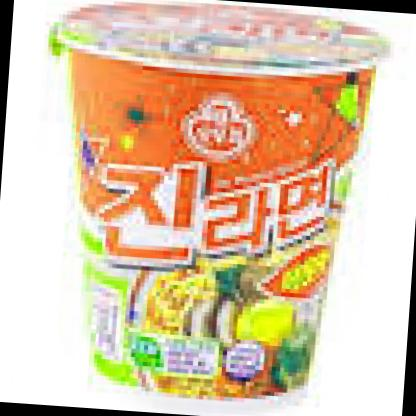Ramen: (25, 0, 395, 408)
